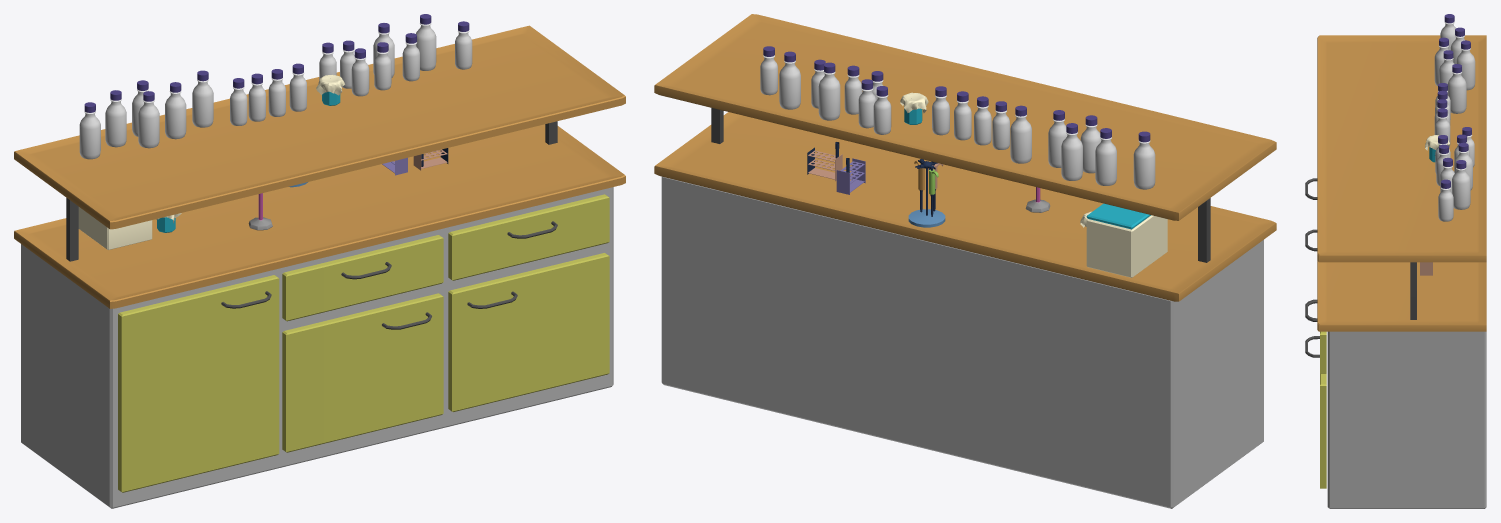
File: Lab_Table.glb
The picture shows the model from 3 angles, left to right: view 1: azimuth 30°, elevation 25°; view 2: azimuth 150°, elevation 25°; view 3: azimuth 270°, elevation 25°; orthographic projection. The views are drawn at different scales.
Parts seen in each view (by area): view 1: Torus.001_clors_0, Torus.001_glass_0; view 2: Torus.001_clors_0, Torus.001_glass_0; view 3: Torus.001_clors_0, Torus.001_glass_0.
Part boxes in pixels (x1=…): Torus.001_clors_0: x1=14, y1=14, x2=625, y2=508; Torus.001_glass_0: x1=79, y1=23, x2=472, y2=166; Torus.001_clors_0: x1=654, y1=14, x2=1276, y2=508; Torus.001_glass_0: x1=760, y1=55, x2=1155, y2=216; Torus.001_clors_0: x1=1305, y1=14, x2=1486, y2=508; Torus.001_glass_0: x1=1431, y1=22, x2=1475, y2=221.
Size of the model in its own units: 2.62 by 1.66 by 0.9133.
2 materials, 2 textured.
